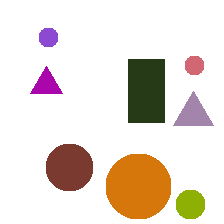circle: (106, 154, 170, 218), (46, 144, 92, 190), (176, 190, 204, 218), (185, 56, 203, 74), (39, 28, 57, 46)
rectangle: (128, 59, 164, 122)
triangle: (173, 91, 213, 125), (30, 66, 62, 93)
